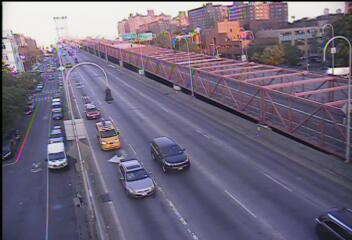neg: (178, 117, 219, 172), (17, 89, 57, 142), (222, 57, 260, 108), (253, 124, 287, 170), (195, 44, 224, 83), (89, 78, 114, 112), (271, 190, 296, 222), (157, 44, 181, 75), (102, 42, 125, 73), (311, 142, 334, 173), (24, 188, 46, 219), (109, 171, 131, 200), (56, 142, 77, 171), (144, 88, 164, 115), (48, 39, 66, 64), (280, 87, 298, 110), (286, 25, 303, 47), (214, 197, 229, 216), (134, 203, 148, 222)
